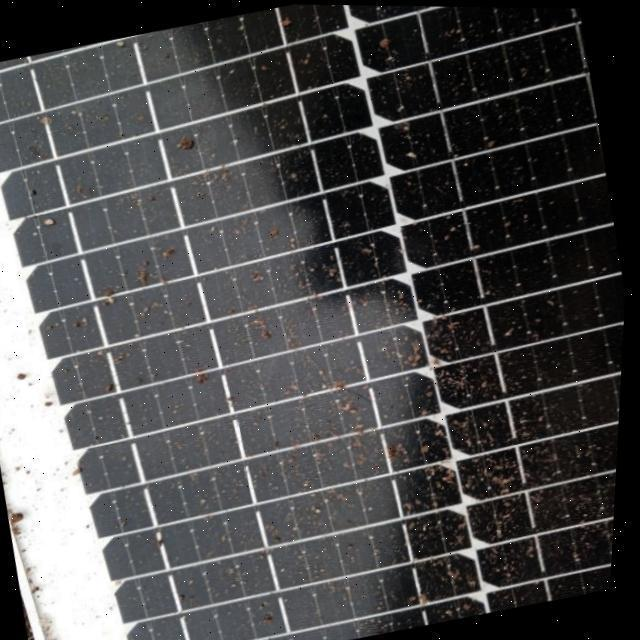Anomaly Solar Panel: (0, 0, 640, 640)
Surface Contaminant: (0, 4, 627, 640)
